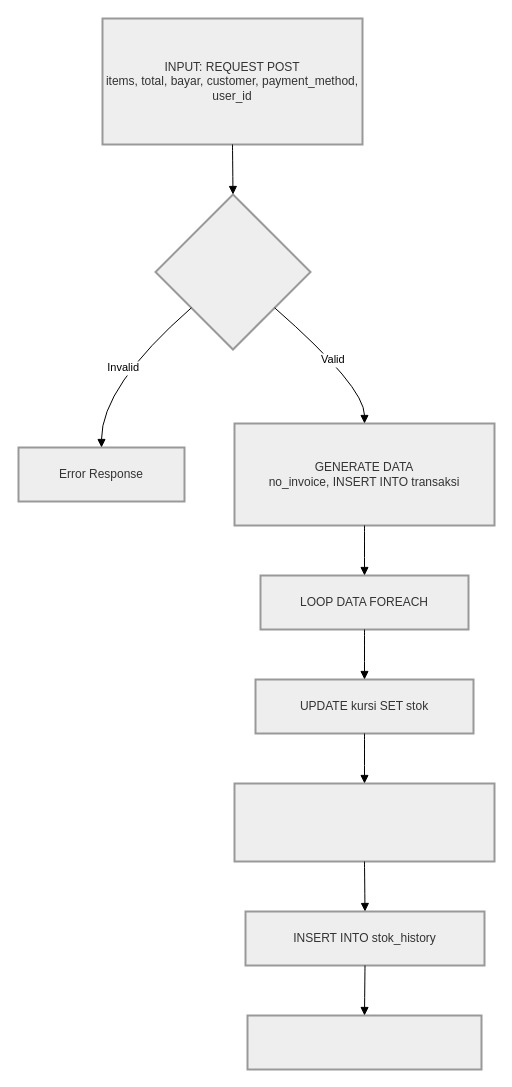
Some shapes in this 512 by 1087 pixel diagram are drawn without their labels. The shapes that lost their labels are listed below. From the top down, each one's centre as x and y in pixels, then its label:
(x=232, y=271): VALIDASI DATA
(x=364, y=822): INSERT INTO detail_transaksi
(x=364, y=1042): OUTPUT: JSON Response
